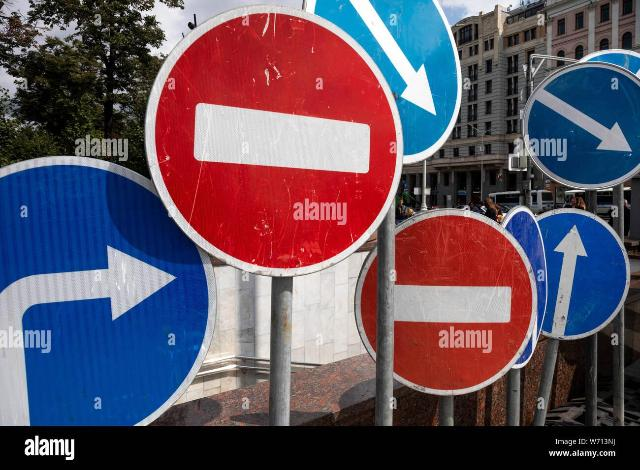B2: (142, 4, 404, 278), (353, 207, 539, 397)
